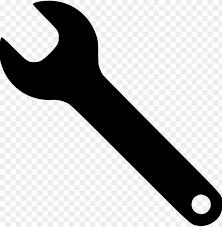wrench: (0, 0, 220, 226)
